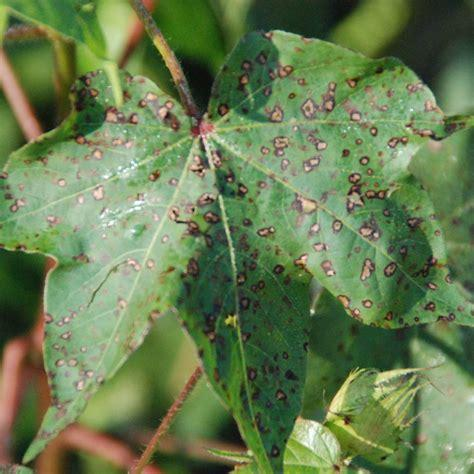black-spot: (260, 119, 359, 193), (315, 217, 387, 280)
